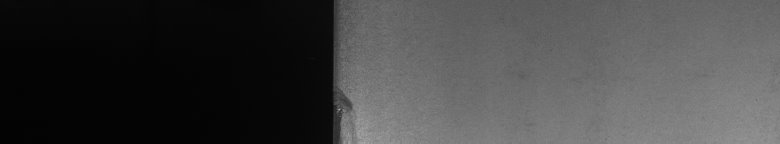hb: (344, 89, 360, 136)
